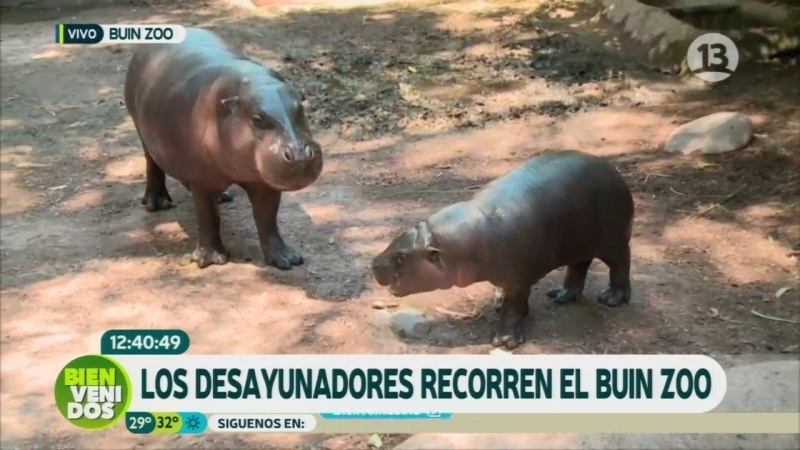hipopotamo: (362, 140, 668, 352), (113, 20, 321, 286)
